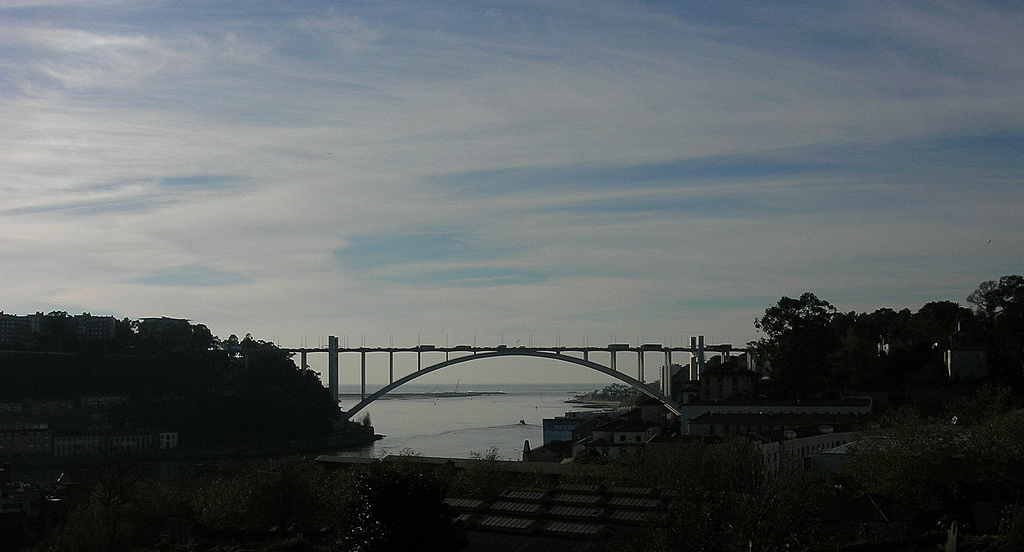arrabida: (279, 333, 768, 423)
